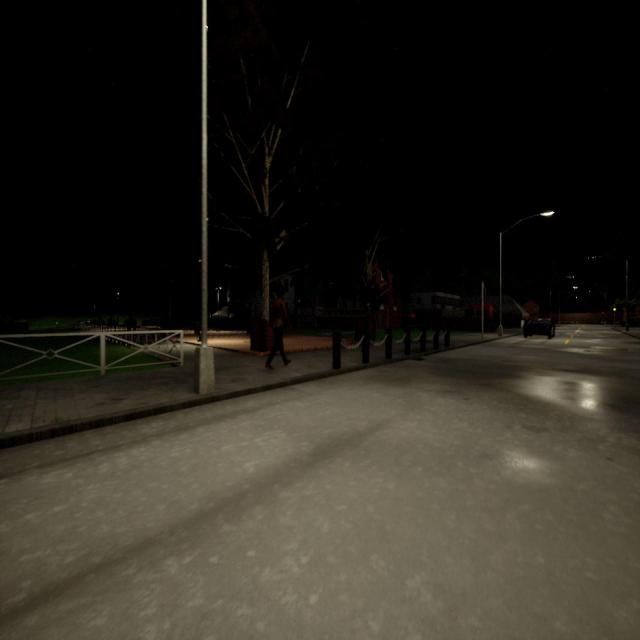Pedestrian: (262, 283, 293, 372)
Vehicle: (524, 316, 556, 340)
traffic_light: (483, 287, 486, 300), (613, 306, 616, 313), (602, 312, 604, 316)
